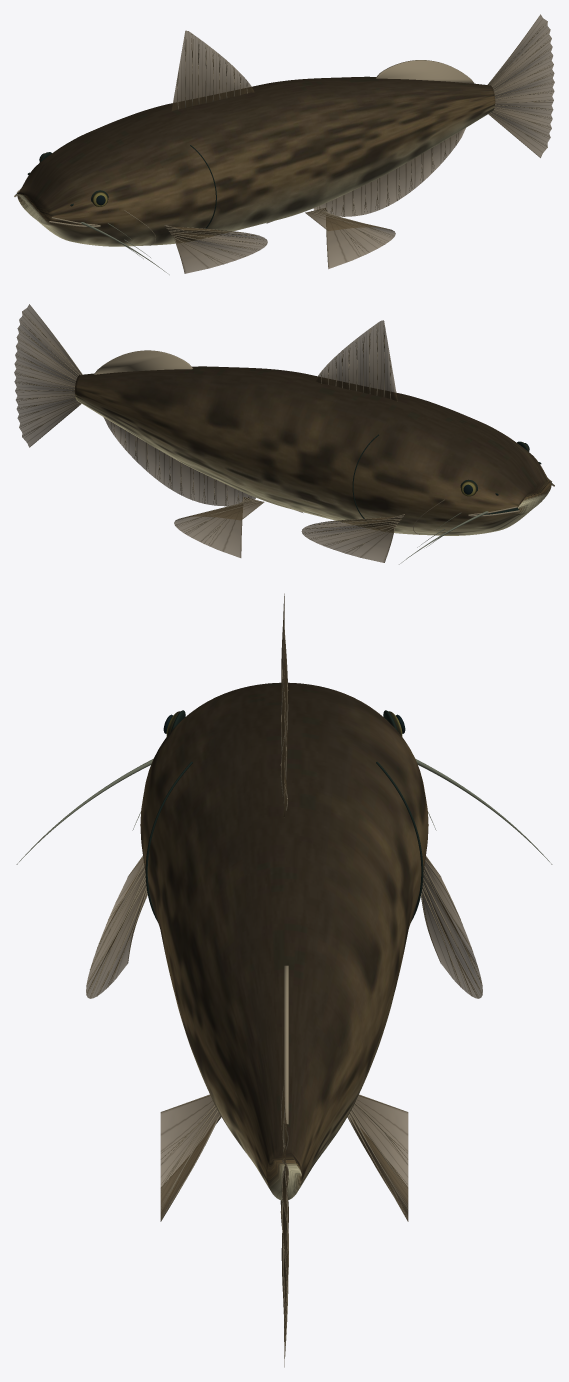
File: brown-bullhead.glb
3 views of the same model, one above another, from view 1: azimuth 30°, elevation 25°; view 2: azimuth 150°, elevation 25°; view 3: azimuth 270°, elevation 25° (orthographic). The views are drawn at different scales.
Parts seen in each view (by area): view 1: brown-bullhead specimen; view 2: brown-bullhead specimen; view 3: brown-bullhead specimen.
Part boxes in pixels (box(x1,y1,x2,y2)): brown-bullhead specimen: box(14, 14, 554, 274); brown-bullhead specimen: box(14, 304, 554, 564); brown-bullhead specimen: box(16, 593, 552, 1367).
Bounding box in the file's own units: 2.02 × 0.896 × 0.8964.
Materials: 14 (5 with a texture image).
